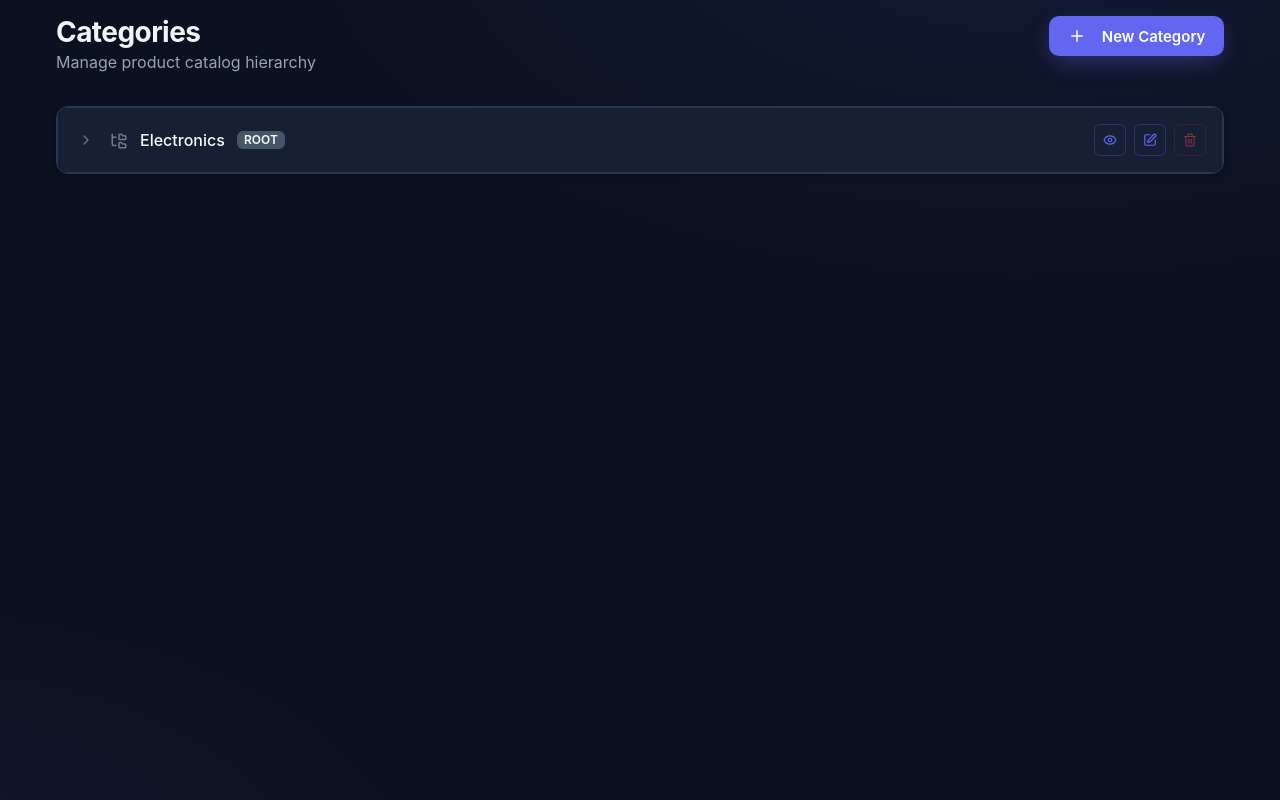
it: CategoryListPage › renders categories in list
This screenshot has width=1280, height=800.
Expected: the text "Electronics" is shown, [140,128,225,152]
# Expand Electronics to see Laptops
Click the button named "Expand Electronics" at (86, 140), box [74,128,98,152]
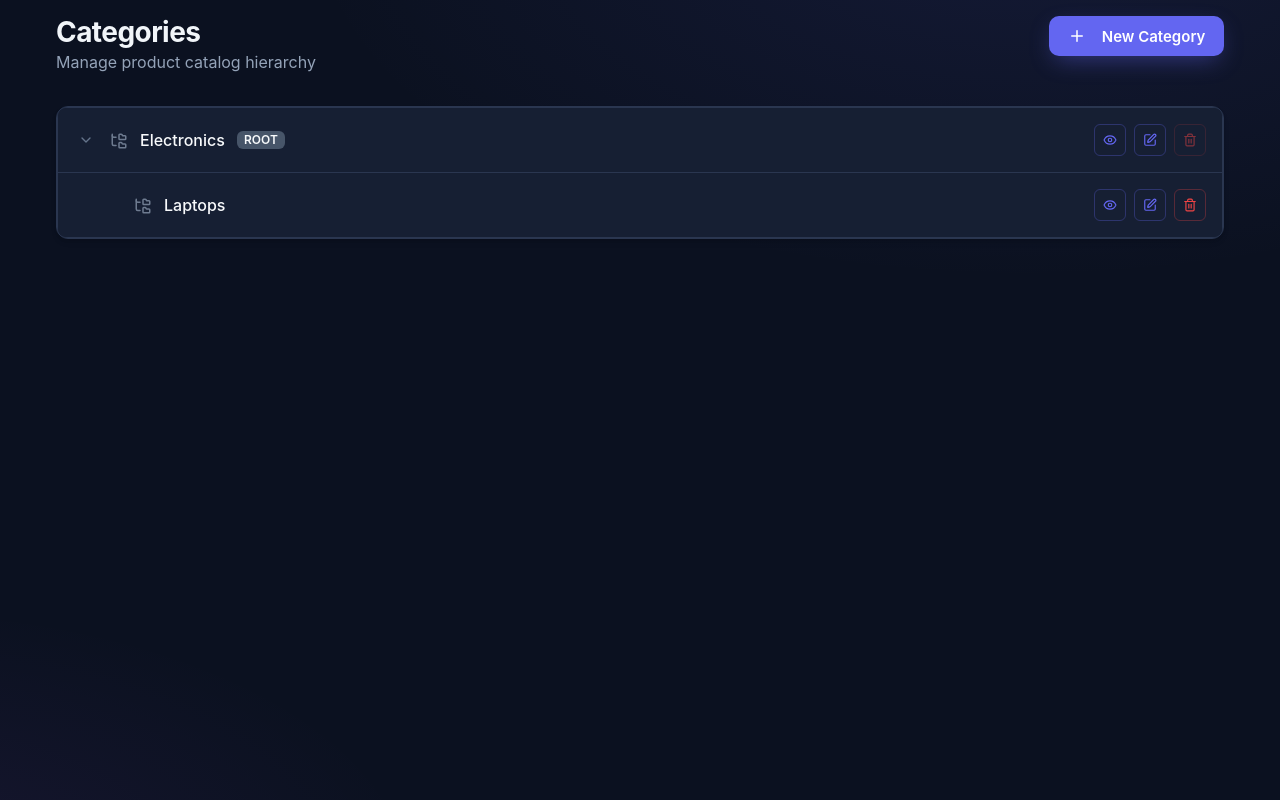
Expected: the text "ROOT" is shown, [237,131,285,149]
Expected: the text "Laptops" is shown, [164,193,226,217]
